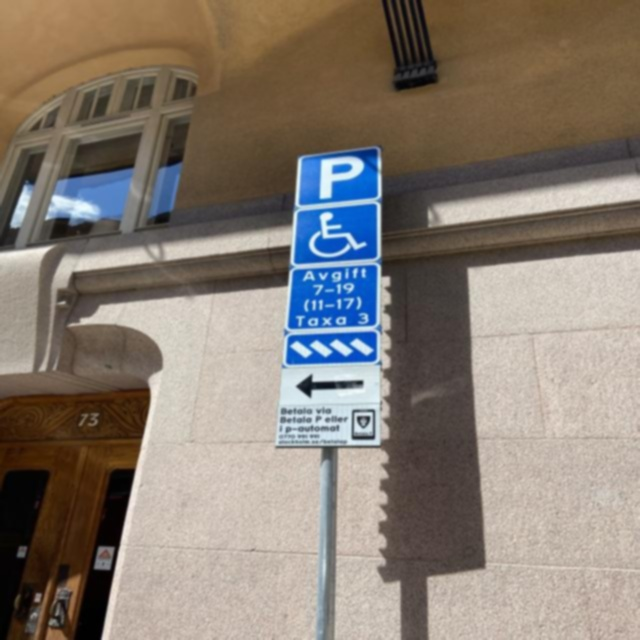P-skylt: (296, 147, 382, 207)
